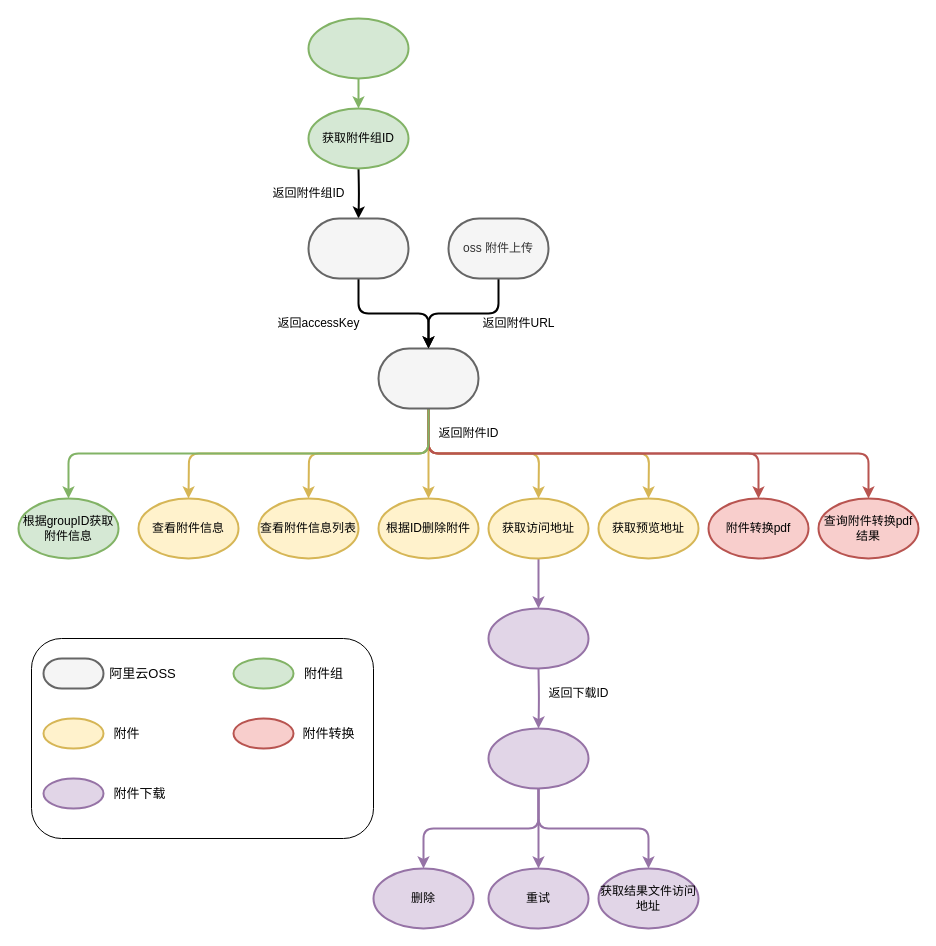
Some shapes in this 936 by 946 pixel diagram are drawn without their labels. Each missing label, with the centre of its shape:
"oss 回调接口" goes at point 428,378.
"新增下载记录" goes at point 538,638.
"新增附件组" goes at point 358,48.
"查询分页下载列表" goes at point 538,758.
"获取附件上传凭证" goes at point 358,248.
